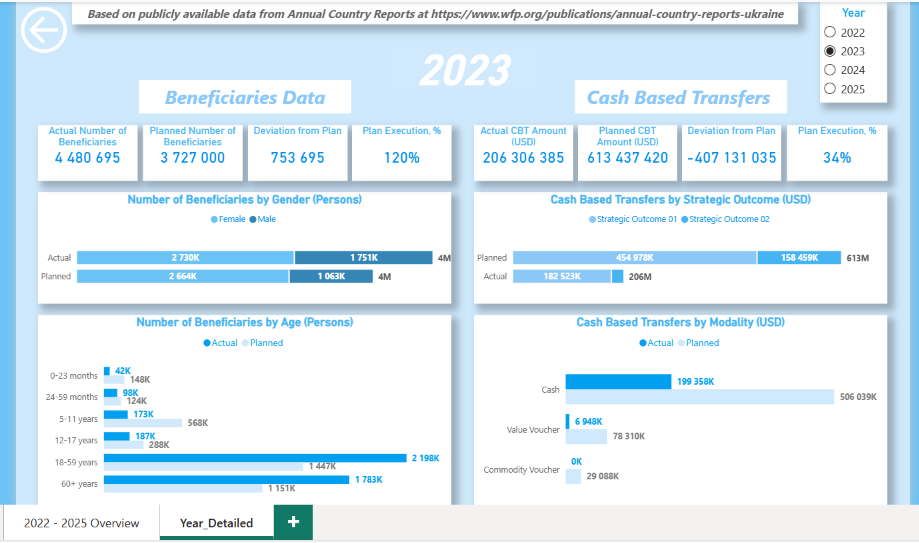

The page's visual inventory and layout, read from the dashboard file:
{"tool":"powerbi","page":{"name":"Year_Detailed","canvas":[1280,720],"ordinal":1},"visuals":[{"type":"barChart","title":"Number of Beneficiaries by Gender (Persons)","fields":{"Category":["2022-2025.Planned_Actual"],"Series":["2022-2025.Gender"],"Y":["2022-2025.Number_of_Beneficiaries"]},"box":[32,272,592,160],"z":0},{"type":"listSlicer","fields":{"Values":["DimYear.Year"]},"box":[1152,0,96,144],"z":1000},{"type":"clusteredBarChart","title":"Number of Beneficiaries by Age (Persons)","fields":{"Category":["DimAge.Age"],"Series":["2022-2025.Planned_Actual"],"Y":["2022-2025.Number_of_Beneficiaries"]},"box":[32,448,592,272],"z":2000},{"type":"textbox","box":[80,0,1040,32],"z":3000},{"type":"barChart","title":"Cash Based Transfers by Strategic Outcome (USD)","fields":{"Category":["2022-2025.Planned_Actual"],"Series":["2022-2025.Strategic_Outcome"],"Y":["2022-2025.Cash_Based_Transfers"]},"box":[656,272,592,160],"z":4000},{"type":"clusteredBarChart","title":"Cash Based Transfers by Modality (USD)","fields":{"Category":["2022-2025.Modality"],"Series":["2022-2025.Planned_Actual"],"Y":["2022-2025.Cash_Based_Transfers"]},"box":[656,448,592,272],"z":5000},{"type":"actionButton","box":[0,0,80,80],"z":6000},{"type":"kpi","title":"Actual Number of Beneficiaries","fields":{"Indicator":["2022-2025.Actual"],"TrendLine":["DimYear.Year"]},"box":[32,176,142.4,80],"z":7000},{"type":"kpi","title":"Actual Number of Beneficiaries","fields":{"Indicator":["Max(DimYear.Year)"],"TrendLine":["DimYear.Year"]},"box":[536,64,208,64],"z":8000},{"type":"kpi","title":"Planned Number of Beneficiaries","fields":{"Indicator":["2022-2025.Plan"],"TrendLine":["DimYear.Year"]},"box":[181.9,176,142.4,80],"z":9000},{"type":"kpi","title":"Deviation from Plan","fields":{"Indicator":["2022-2025.Deviation from Plan"],"TrendLine":["DimYear.Year"]},"box":[331.7,176,142.4,80],"z":10000},{"type":"kpi","title":"Plan Execution, %","fields":{"Indicator":["2022-2025.Plan Execution, %"],"TrendLine":["DimYear.Year"]},"box":[481.6,176,142.4,80],"z":11000},{"type":"kpi","title":"Actual CBT Amount (USD)","fields":{"Indicator":["2022-2025.Actual"],"TrendLine":["DimYear.Year"]},"box":[656,176,142,80],"z":12000},{"type":"kpi","title":"Planned CBT Amount (USD)","fields":{"Indicator":["2022-2025.Plan"],"TrendLine":["DimYear.Year"]},"box":[805.3,176,142,80],"z":13000},{"type":"kpi","title":"Deviation from Plan","fields":{"Indicator":["2022-2025.Deviation from Plan"],"TrendLine":["DimYear.Year"]},"box":[954.7,176,142,80],"z":14000},{"type":"kpi","title":"Plan Execution, %","fields":{"Indicator":["2022-2025.Plan Execution, %"],"TrendLine":["DimYear.Year"]},"box":[1104,176,144,80],"z":15000},{"type":"textbox","box":[176,112,304,48],"z":16000},{"type":"textbox","box":[800,112,304,48],"z":17000}]}

Visuals, with their boxes on the page's 1280x720 design canvas (x1, y1, x2, y2). These are canvas units, not pixel positions in the 919x543 screenshot, which may show the page scaled, cropped or inside an application window:
"Number of Beneficiaries by Gender (Persons)" barChart: BBox(32, 272, 624, 432)
listSlicer - DimYear.Year: BBox(1152, 0, 1248, 144)
"Number of Beneficiaries by Age (Persons)" clusteredBarChart: BBox(32, 448, 624, 720)
textbox: BBox(80, 0, 1120, 32)
"Cash Based Transfers by Strategic Outcome (USD)" barChart: BBox(656, 272, 1248, 432)
"Cash Based Transfers by Modality (USD)" clusteredBarChart: BBox(656, 448, 1248, 720)
actionButton: BBox(0, 0, 80, 80)
"Actual Number of Beneficiaries" kpi: BBox(32, 176, 174, 256)
"Actual Number of Beneficiaries" kpi: BBox(536, 64, 744, 128)
"Planned Number of Beneficiaries" kpi: BBox(182, 176, 324, 256)
"Deviation from Plan" kpi: BBox(332, 176, 474, 256)
"Plan Execution, %" kpi: BBox(482, 176, 624, 256)
"Actual CBT Amount (USD)" kpi: BBox(656, 176, 798, 256)
"Planned CBT Amount (USD)" kpi: BBox(805, 176, 947, 256)
"Deviation from Plan" kpi: BBox(955, 176, 1097, 256)
"Plan Execution, %" kpi: BBox(1104, 176, 1248, 256)
textbox: BBox(176, 112, 480, 160)
textbox: BBox(800, 112, 1104, 160)
